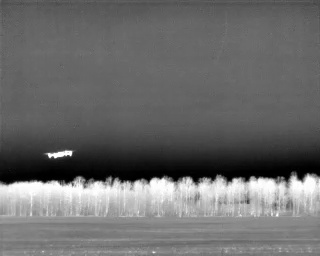DRONE: (41, 145, 78, 163)
